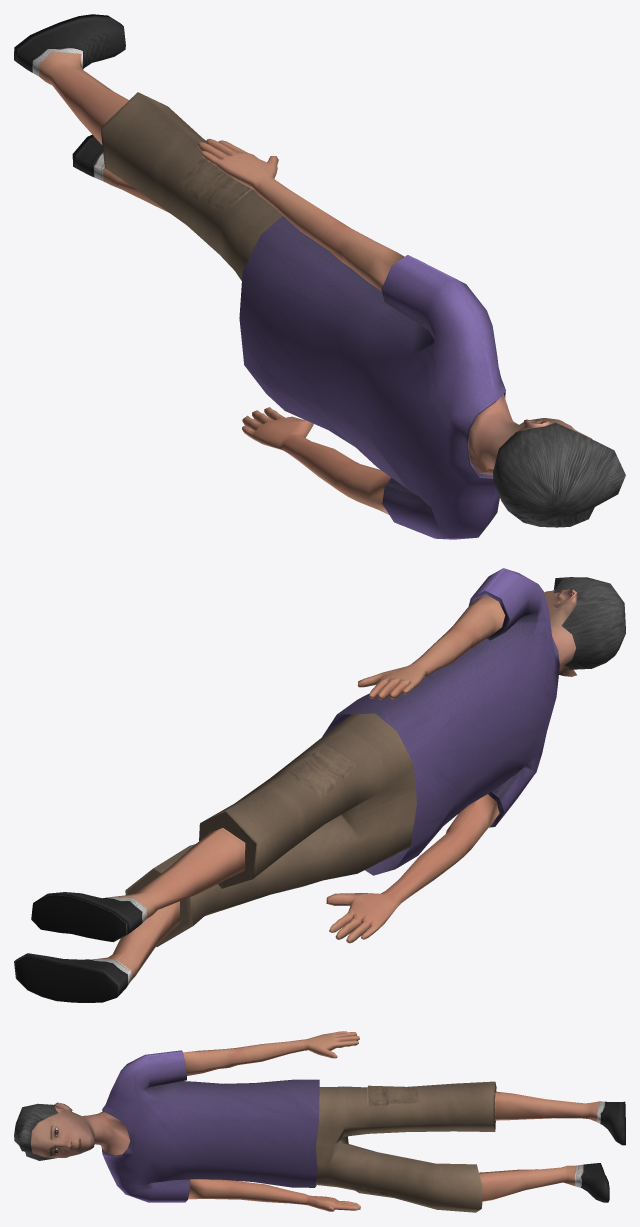
Rendered from walk.obj.
3 views of the same model, one above another, from view 1: azimuth 30°, elevation 25°; view 2: azimuth 150°, elevation 25°; view 3: azimuth 270°, elevation 25° (orthographic). The views are drawn at different scales.
Size of the model in its own units: 0.388 by 0.5233 by 1.78.
Materials: 1 (1 with a texture image).
